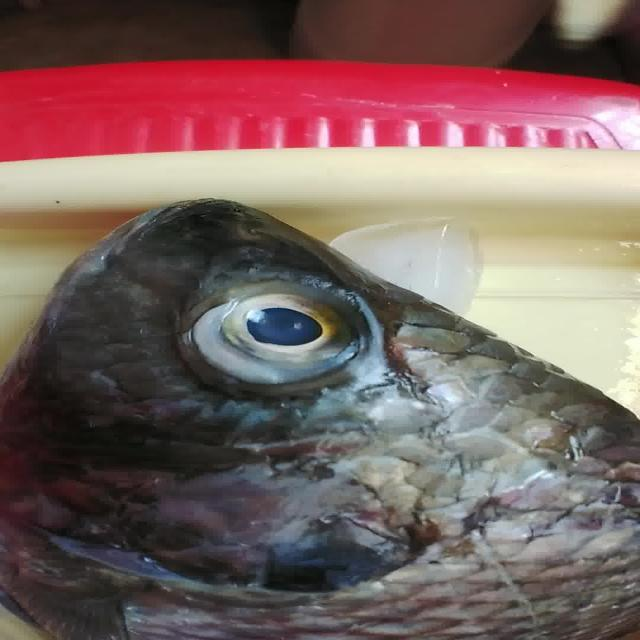Fresh: (158, 280, 413, 421)
